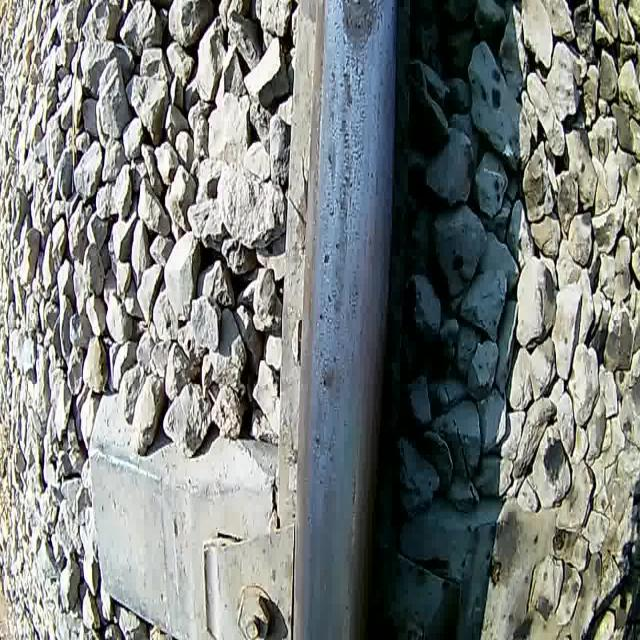Squats: (336, 0, 387, 57), (315, 354, 347, 408)
